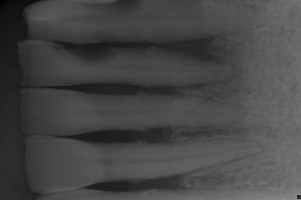Dental Caries: (163, 39, 234, 66)
